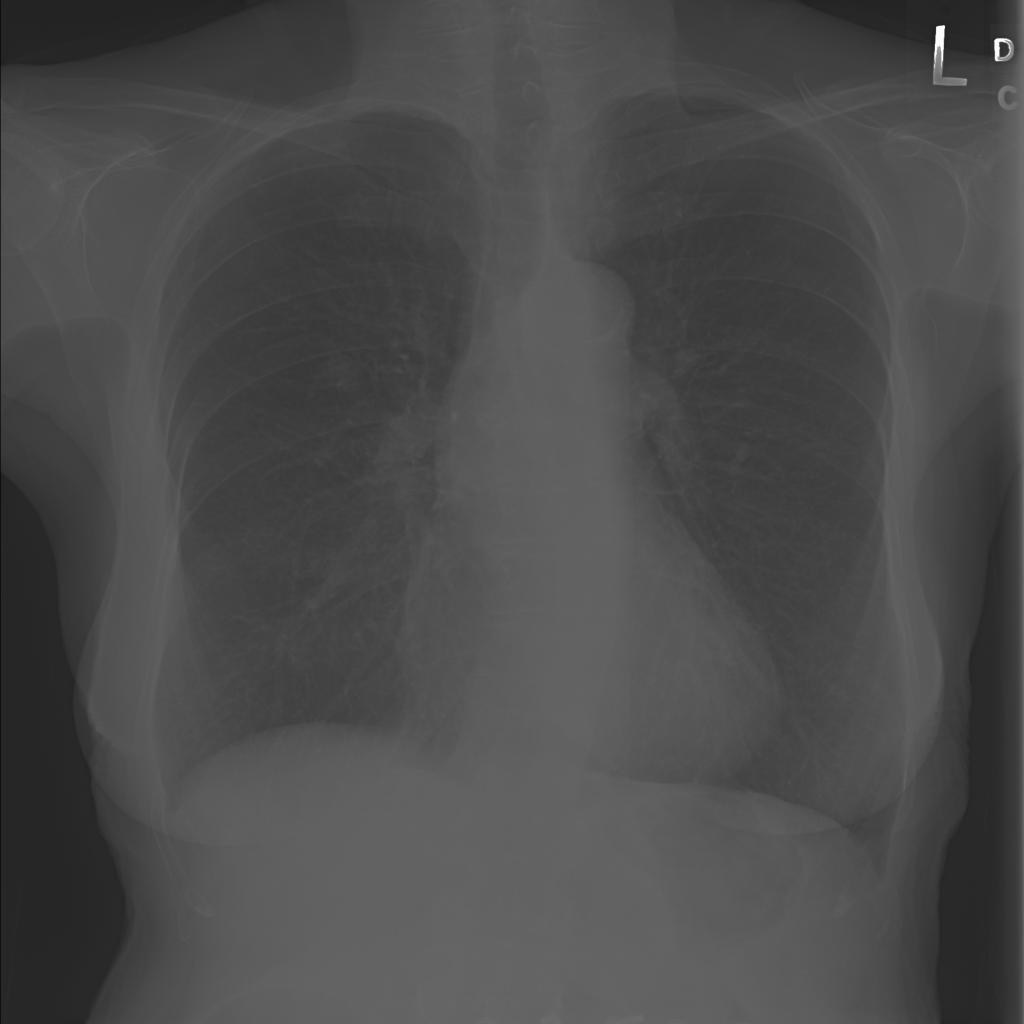Nodule: (418, 251, 478, 294)
